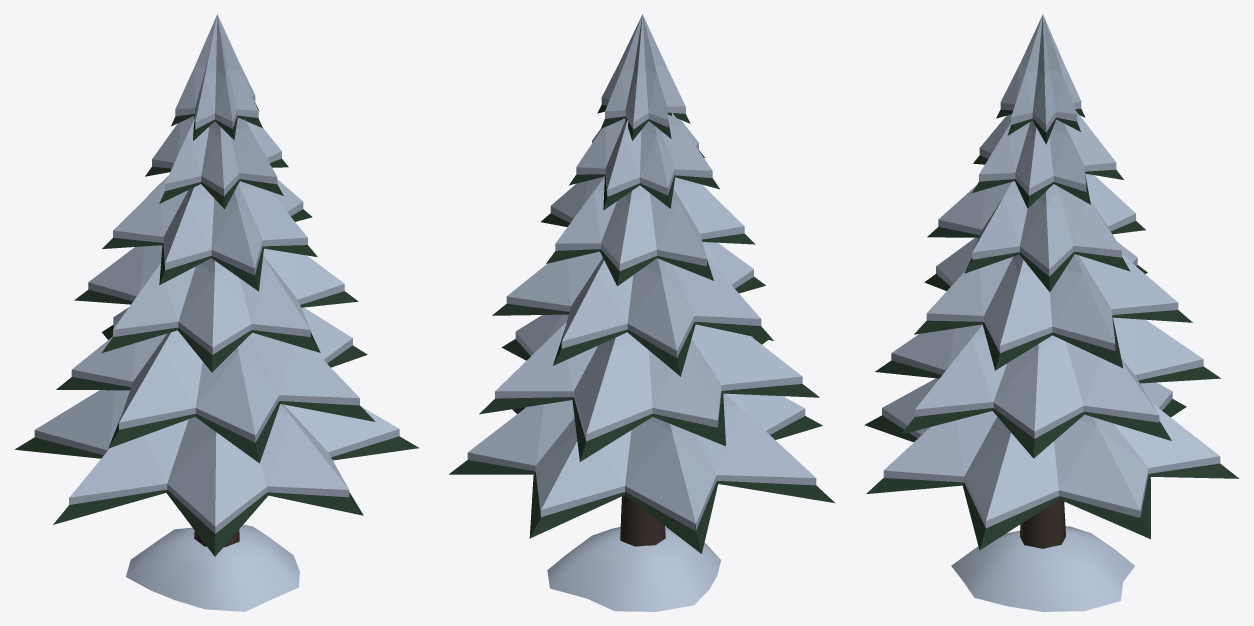
The model's file is pine_hd_b.glb.
The picture shows the model from 3 angles, left to right: view 1: azimuth 30°, elevation 25°; view 2: azimuth 150°, elevation 25°; view 3: azimuth 270°, elevation 25°; orthographic projection.
Visible parts, largest first — view 1: Tree; view 2: Tree; view 3: Tree.
Part boxes in pixels (x1,y1,x2,y2): Tree: (15,14,419,611); Tree: (449,14,835,611); Tree: (864,14,1239,611).
Size of the model in its own units: 4.24 by 6.48 by 3.94.
